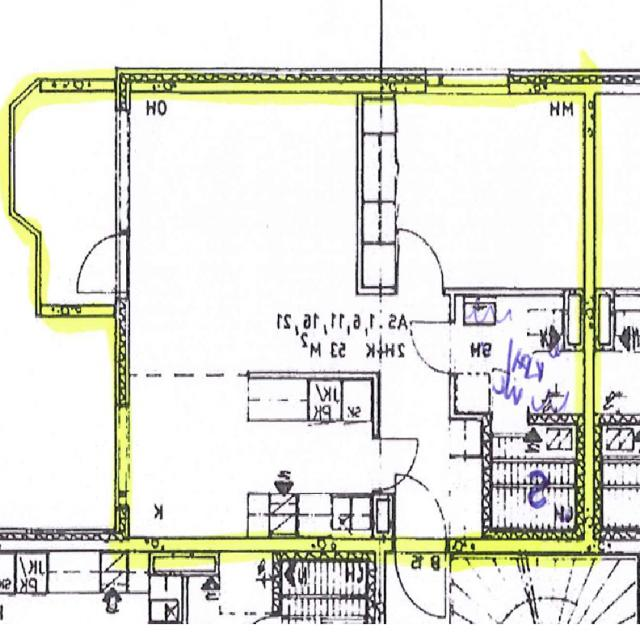door: (396, 474, 445, 552), (396, 538, 445, 615), (73, 236, 130, 291), (399, 232, 444, 295), (373, 439, 416, 488), (494, 368, 530, 424), (412, 325, 454, 372)
